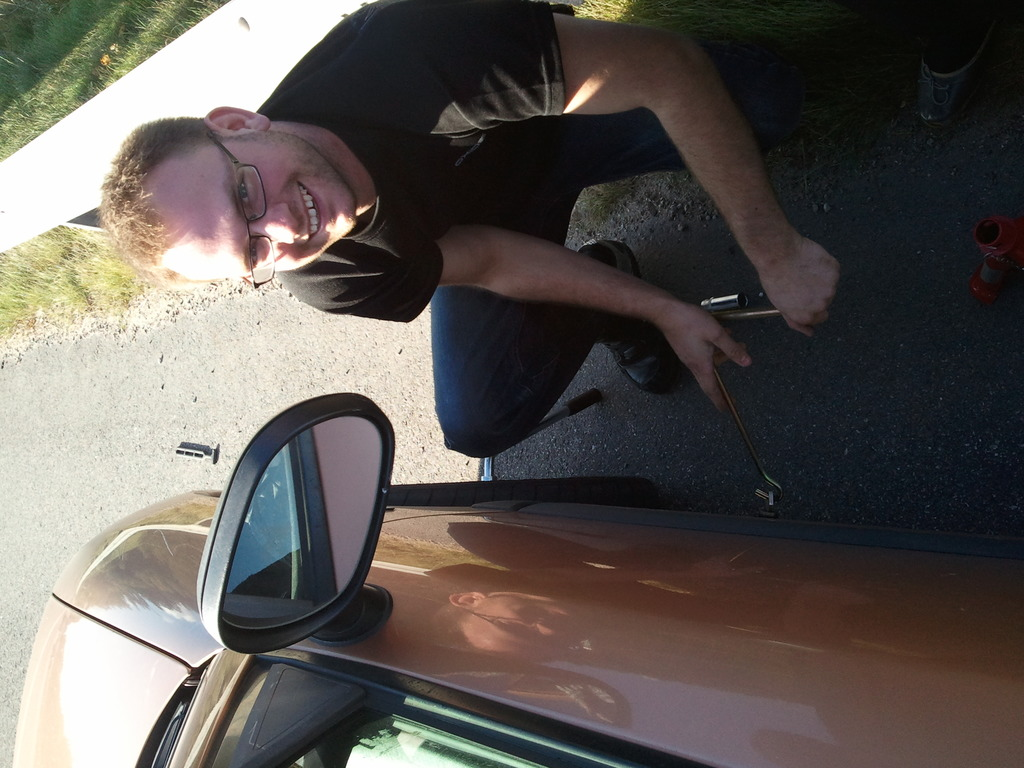Car: (8, 391, 1023, 767)
